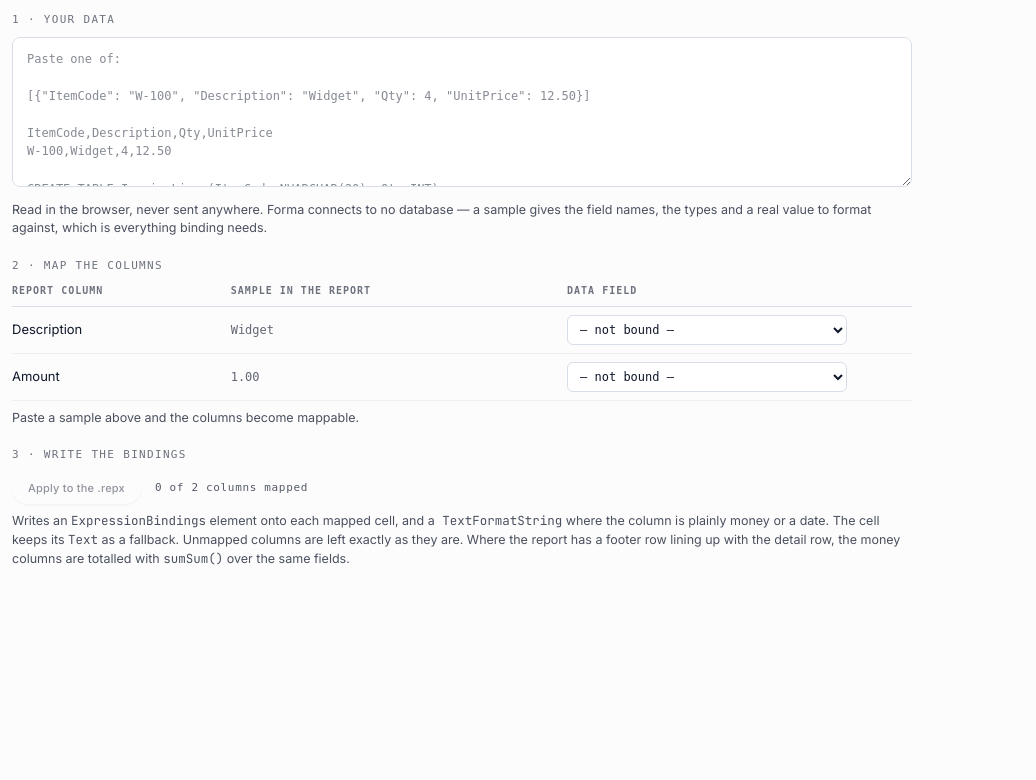
it: mapping columns to fields › counts what is mapped
The image size is (1036, 780).
Replace the text in the text box named "Paste a data sample or schema" with "DESCR, NET_AMOUNT" at (462, 112), box [12,36,912,186]
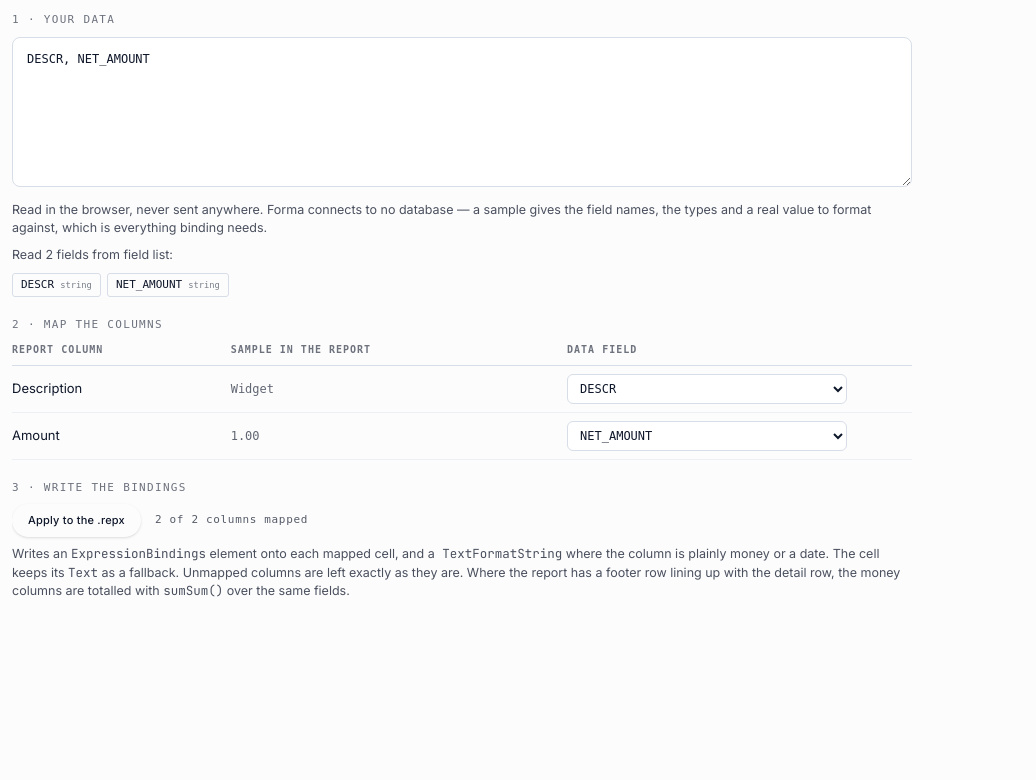
Expected: the text "2 of 2 columns mapped" is shown, [155,512,308,529]
